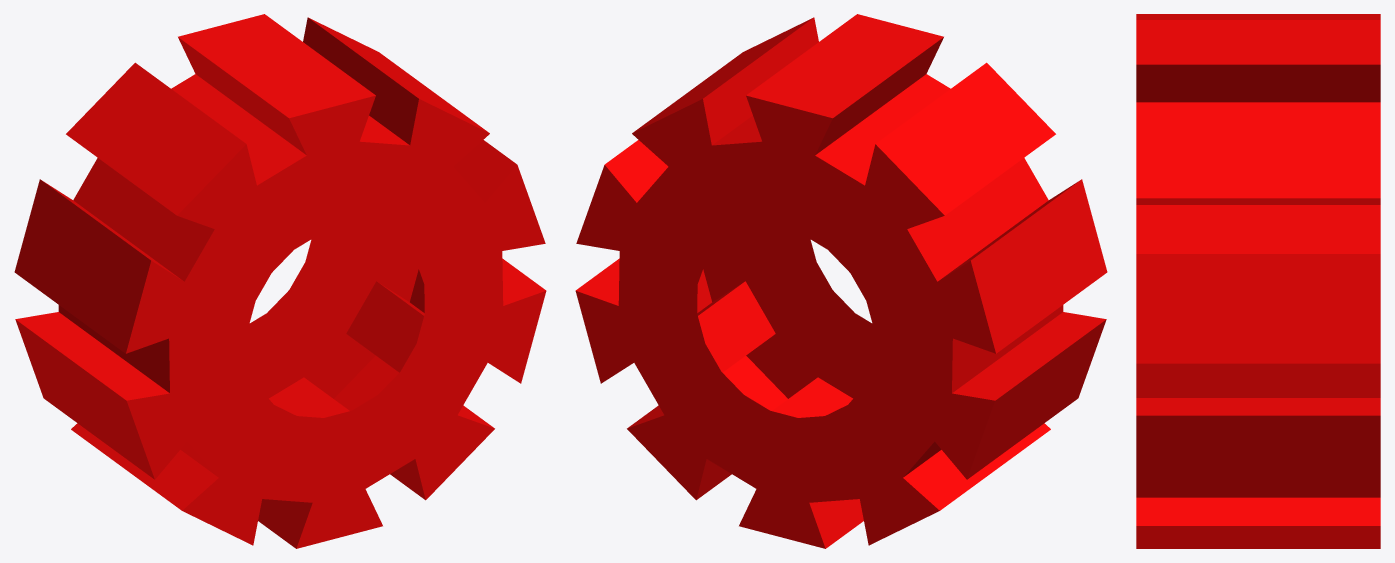
Rendered from roue1.fbx.
The picture shows the model from 3 angles, left to right: view 1: azimuth 30°, elevation 25°; view 2: azimuth 150°, elevation 25°; view 3: azimuth 270°, elevation 25°; orthographic projection. The views are drawn at different scales.
Visible parts, largest first — view 1: Object051; view 2: Object051; view 3: Object051.
Part boxes in pixels (x1=…): Object051: x1=14, y1=14, x2=546, y2=548; Object051: x1=575, y1=14, x2=1107, y2=548; Object051: x1=1136, y1=14, x2=1380, y2=548.
Bounding box in the file's own units: 0.0898 × 0.0886 × 0.0412.
